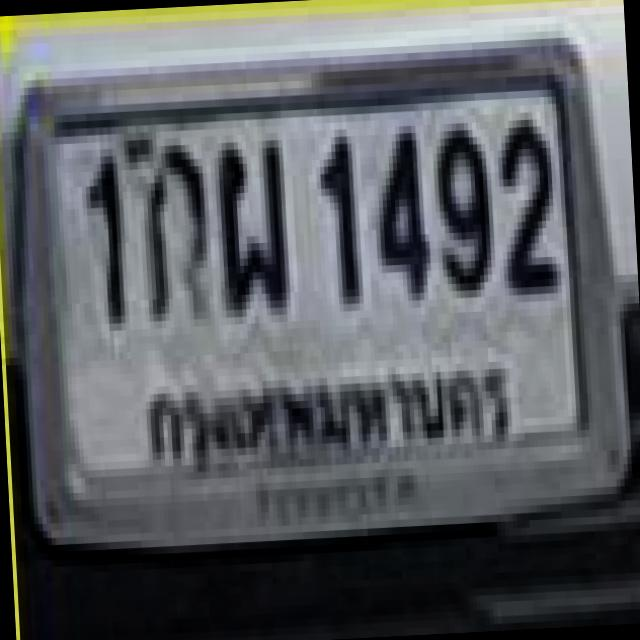license_plate: (7, 28, 640, 558)
